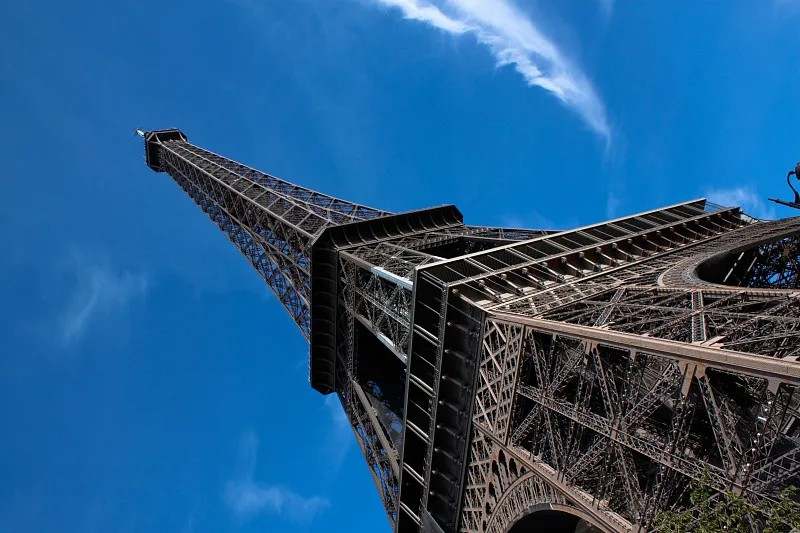Eiffel: (134, 128, 800, 533)
